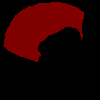mutande: (3, 2, 84, 62)
